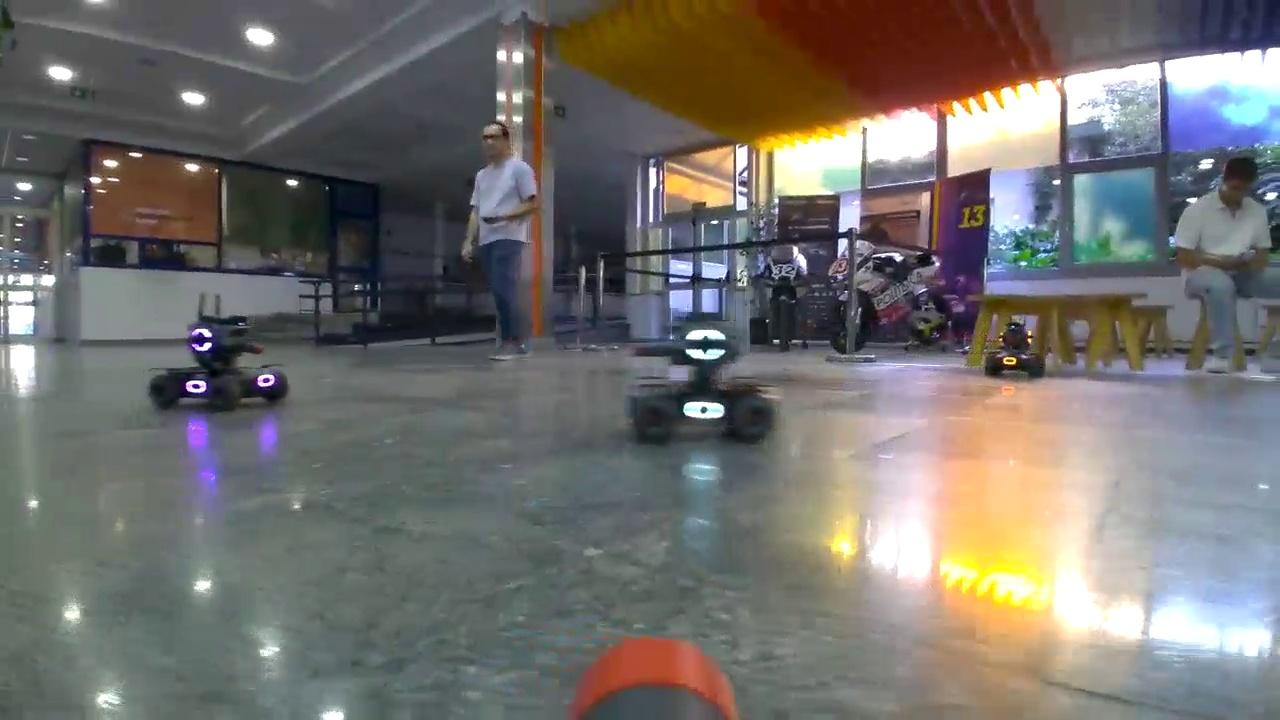robot: (625, 325, 780, 445), (148, 315, 290, 410), (982, 318, 1047, 378)
